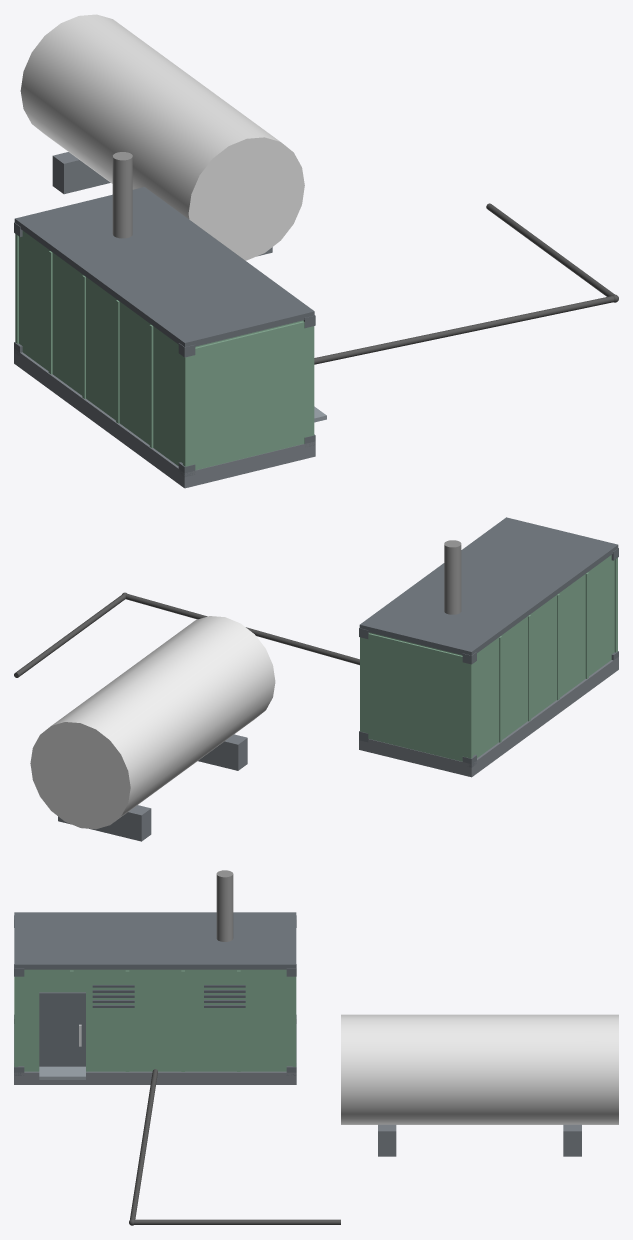
The model's file is power.glb.
The picture shows the model from 3 angles, top to bottom: view 1: azimuth 30°, elevation 25°; view 2: azimuth 150°, elevation 25°; view 3: azimuth 270°, elevation 25°; orthographic projection. The views are drawn at different scales.
Visible parts, largest first — view 1: object 16, object 9, object 1, object 8, object 2, object 19, object 15, object 17, object 20, inst; view 2: object 16, object 9, object 1, object 3, object 2, object 15, object 19, object 17, object 18, object 20, inst; view 3: object 16, object 1, object 9, object 2, object 10, inst, object 15, object 20, object 19, object 12, object 17, object 18.
Boxes of the visible parts, x1,y1,x2,y2 form: object 16: (20,14,304,260); object 9: (14,187,314,346); object 1: (19,231,303,465); object 8: (183,321,314,470); object 2: (14,349,315,488); object 19: (314,296,614,364); object 15: (112,152,132,238); object 17: (52,152,110,194); object 20: (486,203,614,296); inst: (14,222,315,477); object 16: (30,616,275,829); object 9: (359,517,618,655); object 1: (369,555,614,757); object 3: (360,633,472,761); object 2: (359,657,618,777); object 15: (444,540,461,614); object 19: (125,593,359,665); object 17: (58,805,151,841); object 18: (198,734,247,770); object 20: (14,594,125,677); inst: (359,548,618,767); object 16: (341,1014,618,1124); object 1: (18,969,292,1071); object 9: (14,912,296,969); object 2: (14,1024,296,1084); object 10: (39,992,85,1066); inst: (92,985,245,1007); object 15: (216,870,233,941); object 20: (134,1219,340,1224); object 19: (130,1069,157,1219); object 12: (39,1066,85,1079); object 17: (563,1124,581,1156); object 18: (378,1124,396,1156).
Size of the model in its own units: 10.42 by 4.4 by 13.05.
